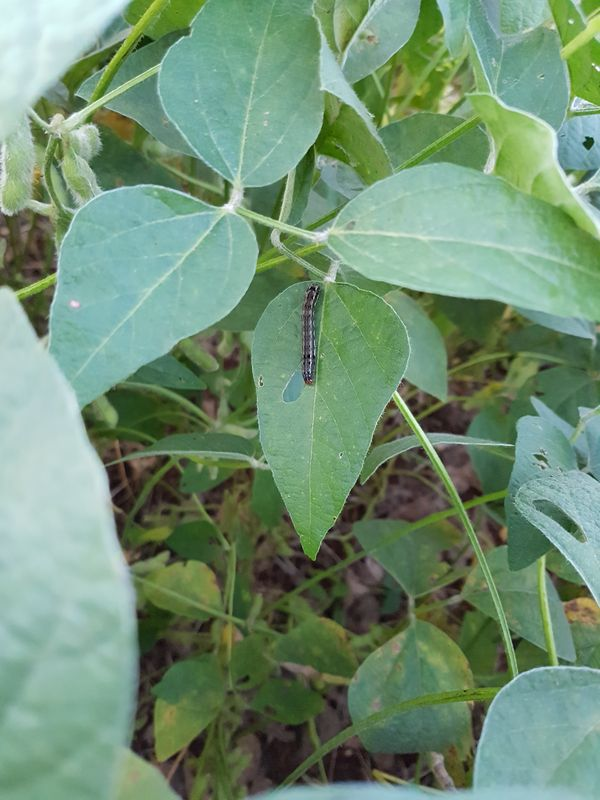Spodoptera_albula: (278, 275, 347, 394)
